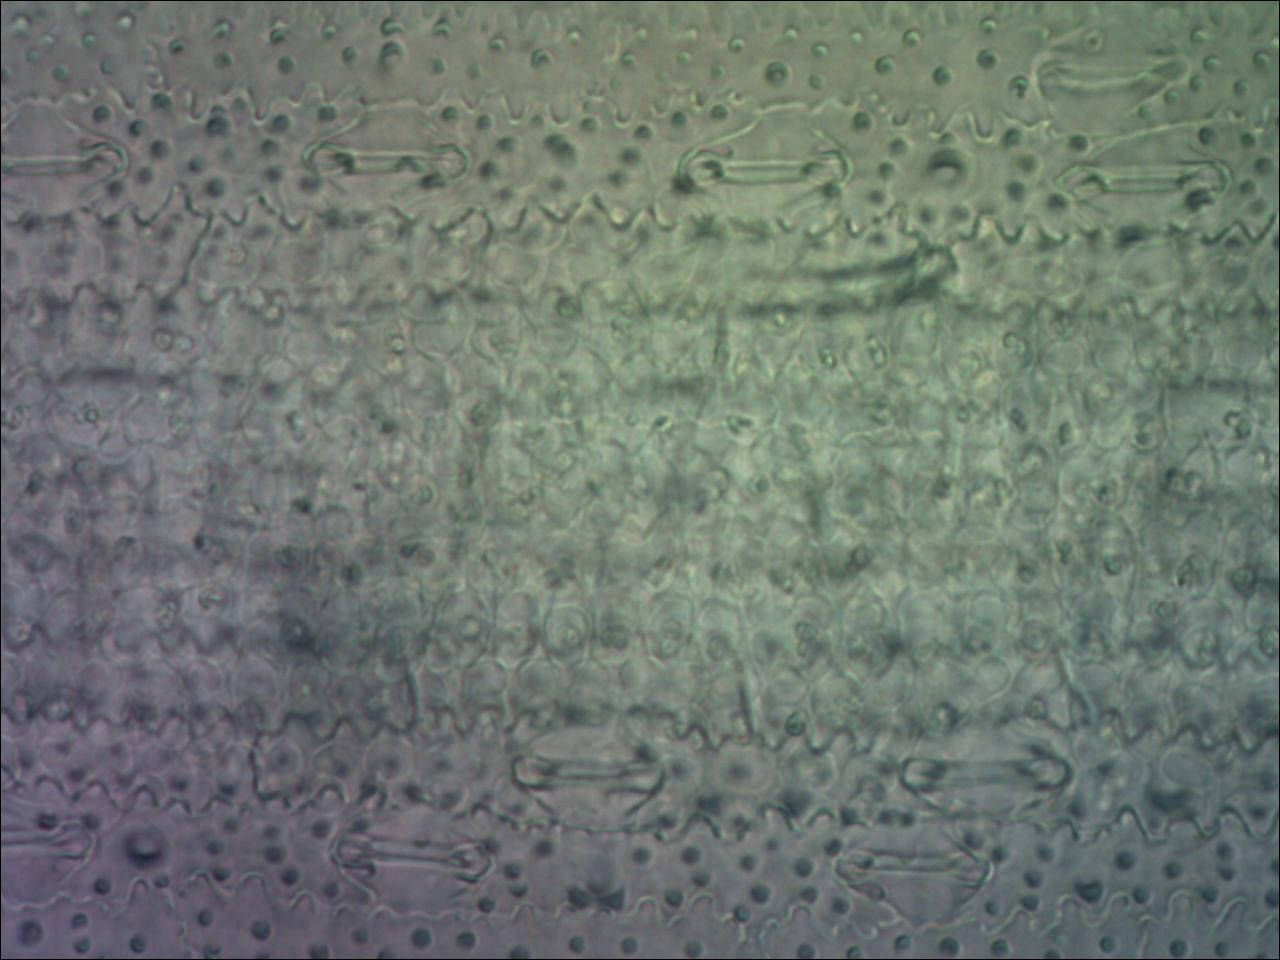stoma: (672, 99, 850, 235), (1021, 15, 1201, 142), (321, 795, 498, 921), (294, 100, 472, 222), (1050, 128, 1235, 242), (509, 713, 671, 842), (901, 714, 1077, 831), (828, 820, 1010, 925), (1, 98, 132, 209), (1, 785, 111, 889)
